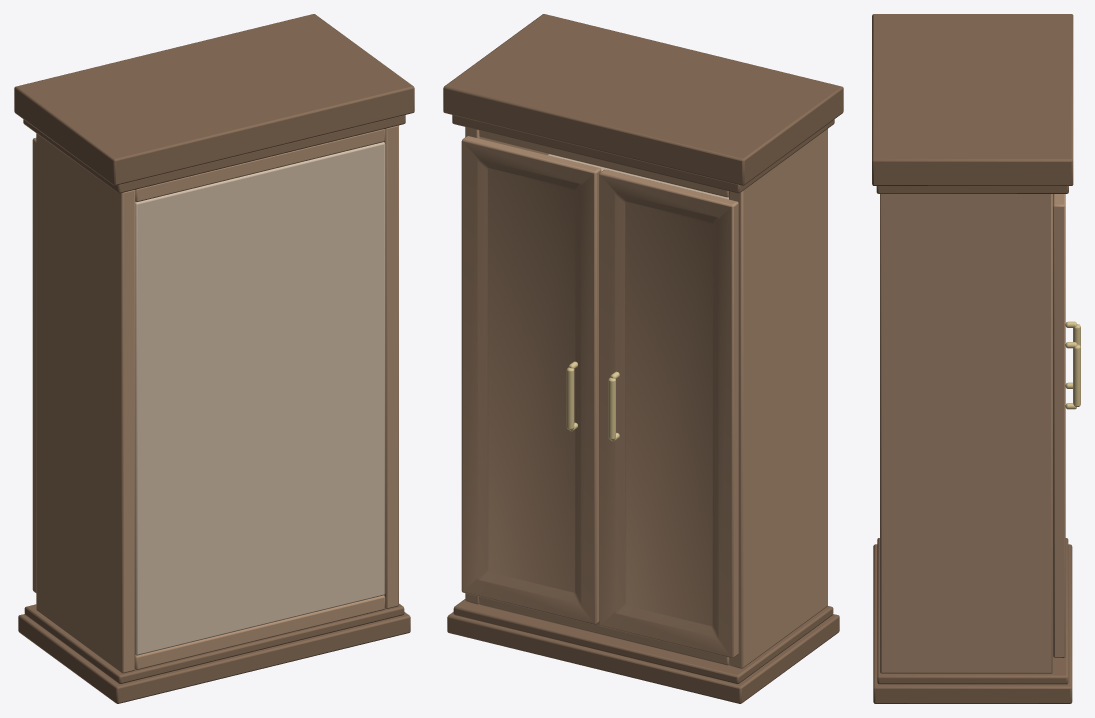
File: wardrobe.glb
3 views of the same model, side by side, from view 1: azimuth 30°, elevation 25°; view 2: azimuth 150°, elevation 25°; view 3: azimuth 270°, elevation 25° (orthographic).
Visible parts, largest first — view 1: Wardrobe, WardrobeDoorL; view 2: Wardrobe, WardrobeDoorL, WardrobeDoorR; view 3: Wardrobe, WardrobeDoorR.
Part boxes in pixels (x1=…): Wardrobe: x1=14, y1=14, x2=414, y2=703; WardrobeDoorL: x1=32, y1=138, x2=36, y2=592; Wardrobe: x1=443, y1=14, x2=843, y2=703; WardrobeDoorL: x1=599, y1=169, x2=738, y2=658; WardrobeDoorR: x1=461, y1=136, x2=601, y2=624; Wardrobe: x1=872, y1=14, x2=1073, y2=703; WardrobeDoorR: x1=1053, y1=194, x2=1080, y2=657.
Bounding box in the file's own units: 1.08 × 1.88 × 0.651.
